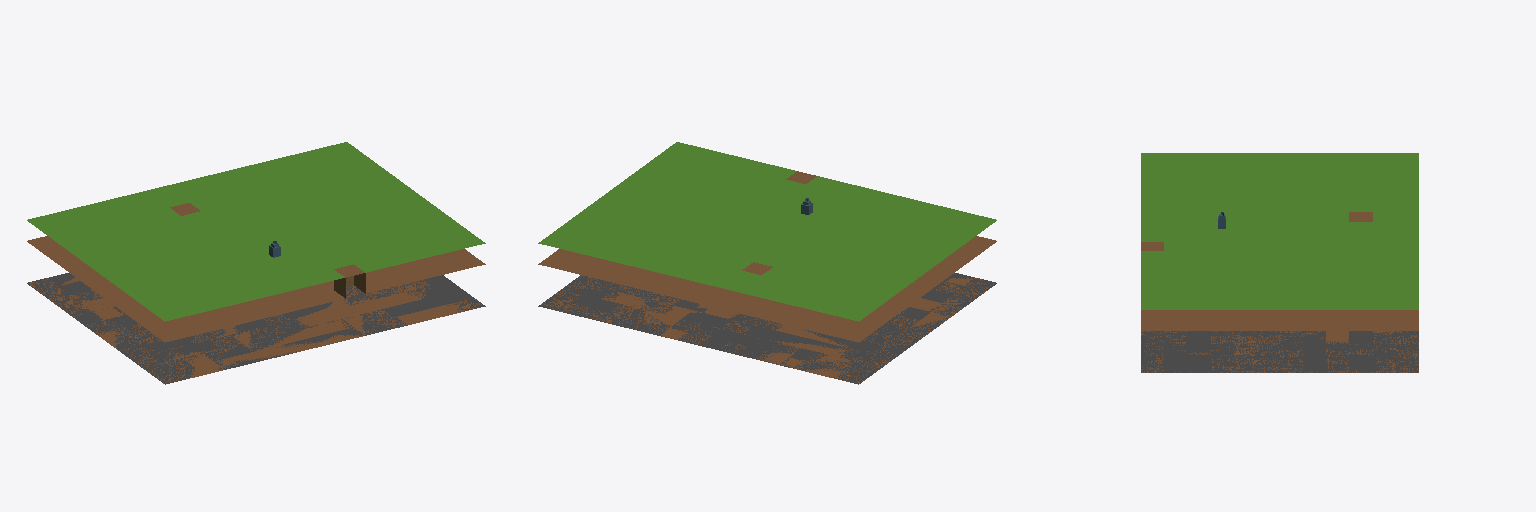
The model's file is jmclight2.obj.
3 renders of one model, left to right at view 1: azimuth 30°, elevation 25°; view 2: azimuth 150°, elevation 25°; view 3: azimuth 270°, elevation 25°, orthographic.
Visible parts, largest first — view 1: minecraft_block-grass_block_top, minecraft_block-dirt, minecraft_block-bedrock; view 2: minecraft_block-grass_block_top, minecraft_block-dirt, minecraft_block-bedrock; view 3: minecraft_block-grass_block_top, minecraft_block-bedrock, minecraft_block-dirt.
Part boxes in pixels (x1,y1,x2,y2): minecraft_block-grass_block_top: (27,142,485,321); minecraft_block-dirt: (27,203,485,383); minecraft_block-bedrock: (27,273,485,384); minecraft_block-grass_block_top: (538,142,996,321); minecraft_block-dirt: (538,171,996,384); minecraft_block-bedrock: (539,273,996,383); minecraft_block-grass_block_top: (1141,153,1418,309); minecraft_block-bedrock: (1141,331,1418,372); minecraft_block-dirt: (1141,212,1418,372).
Size of the model in its own units: 16 by 3.69 by 12.